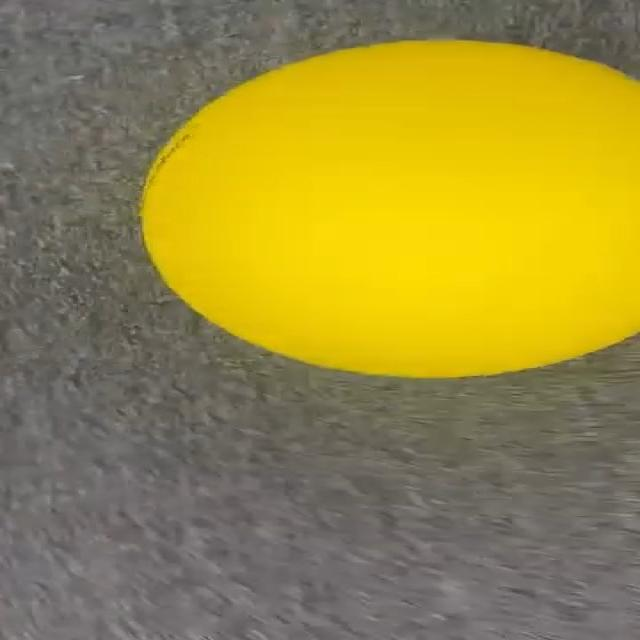Fuels: (144, 41, 638, 376)
